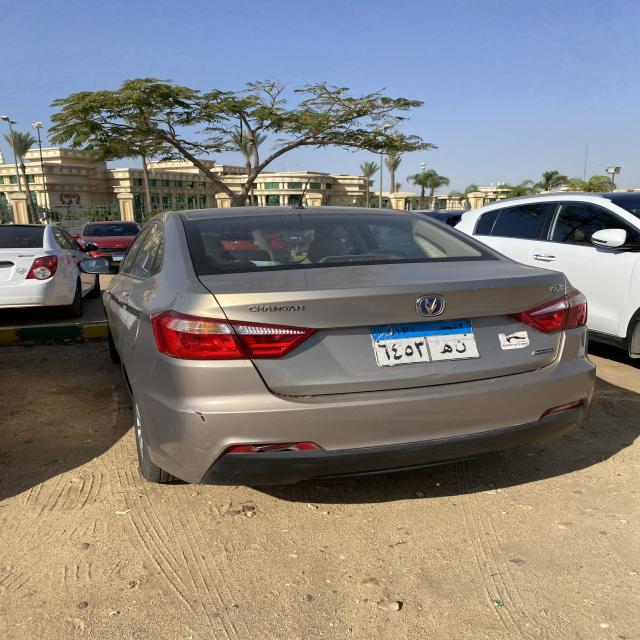License Plate: (370, 318, 480, 367), (112, 255, 124, 261)
